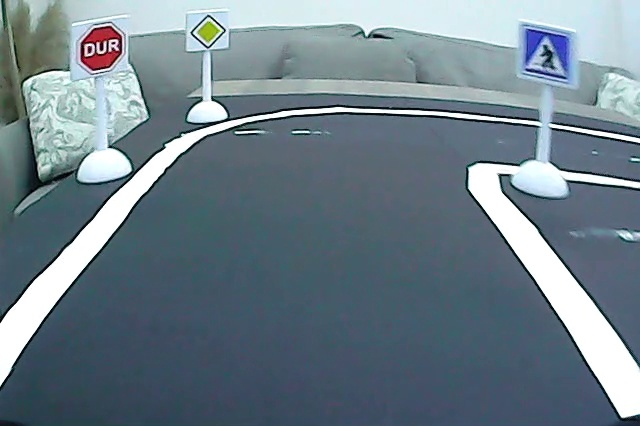pedestrian crossing: (519, 22, 575, 85)
stop sign: (74, 20, 127, 76)
